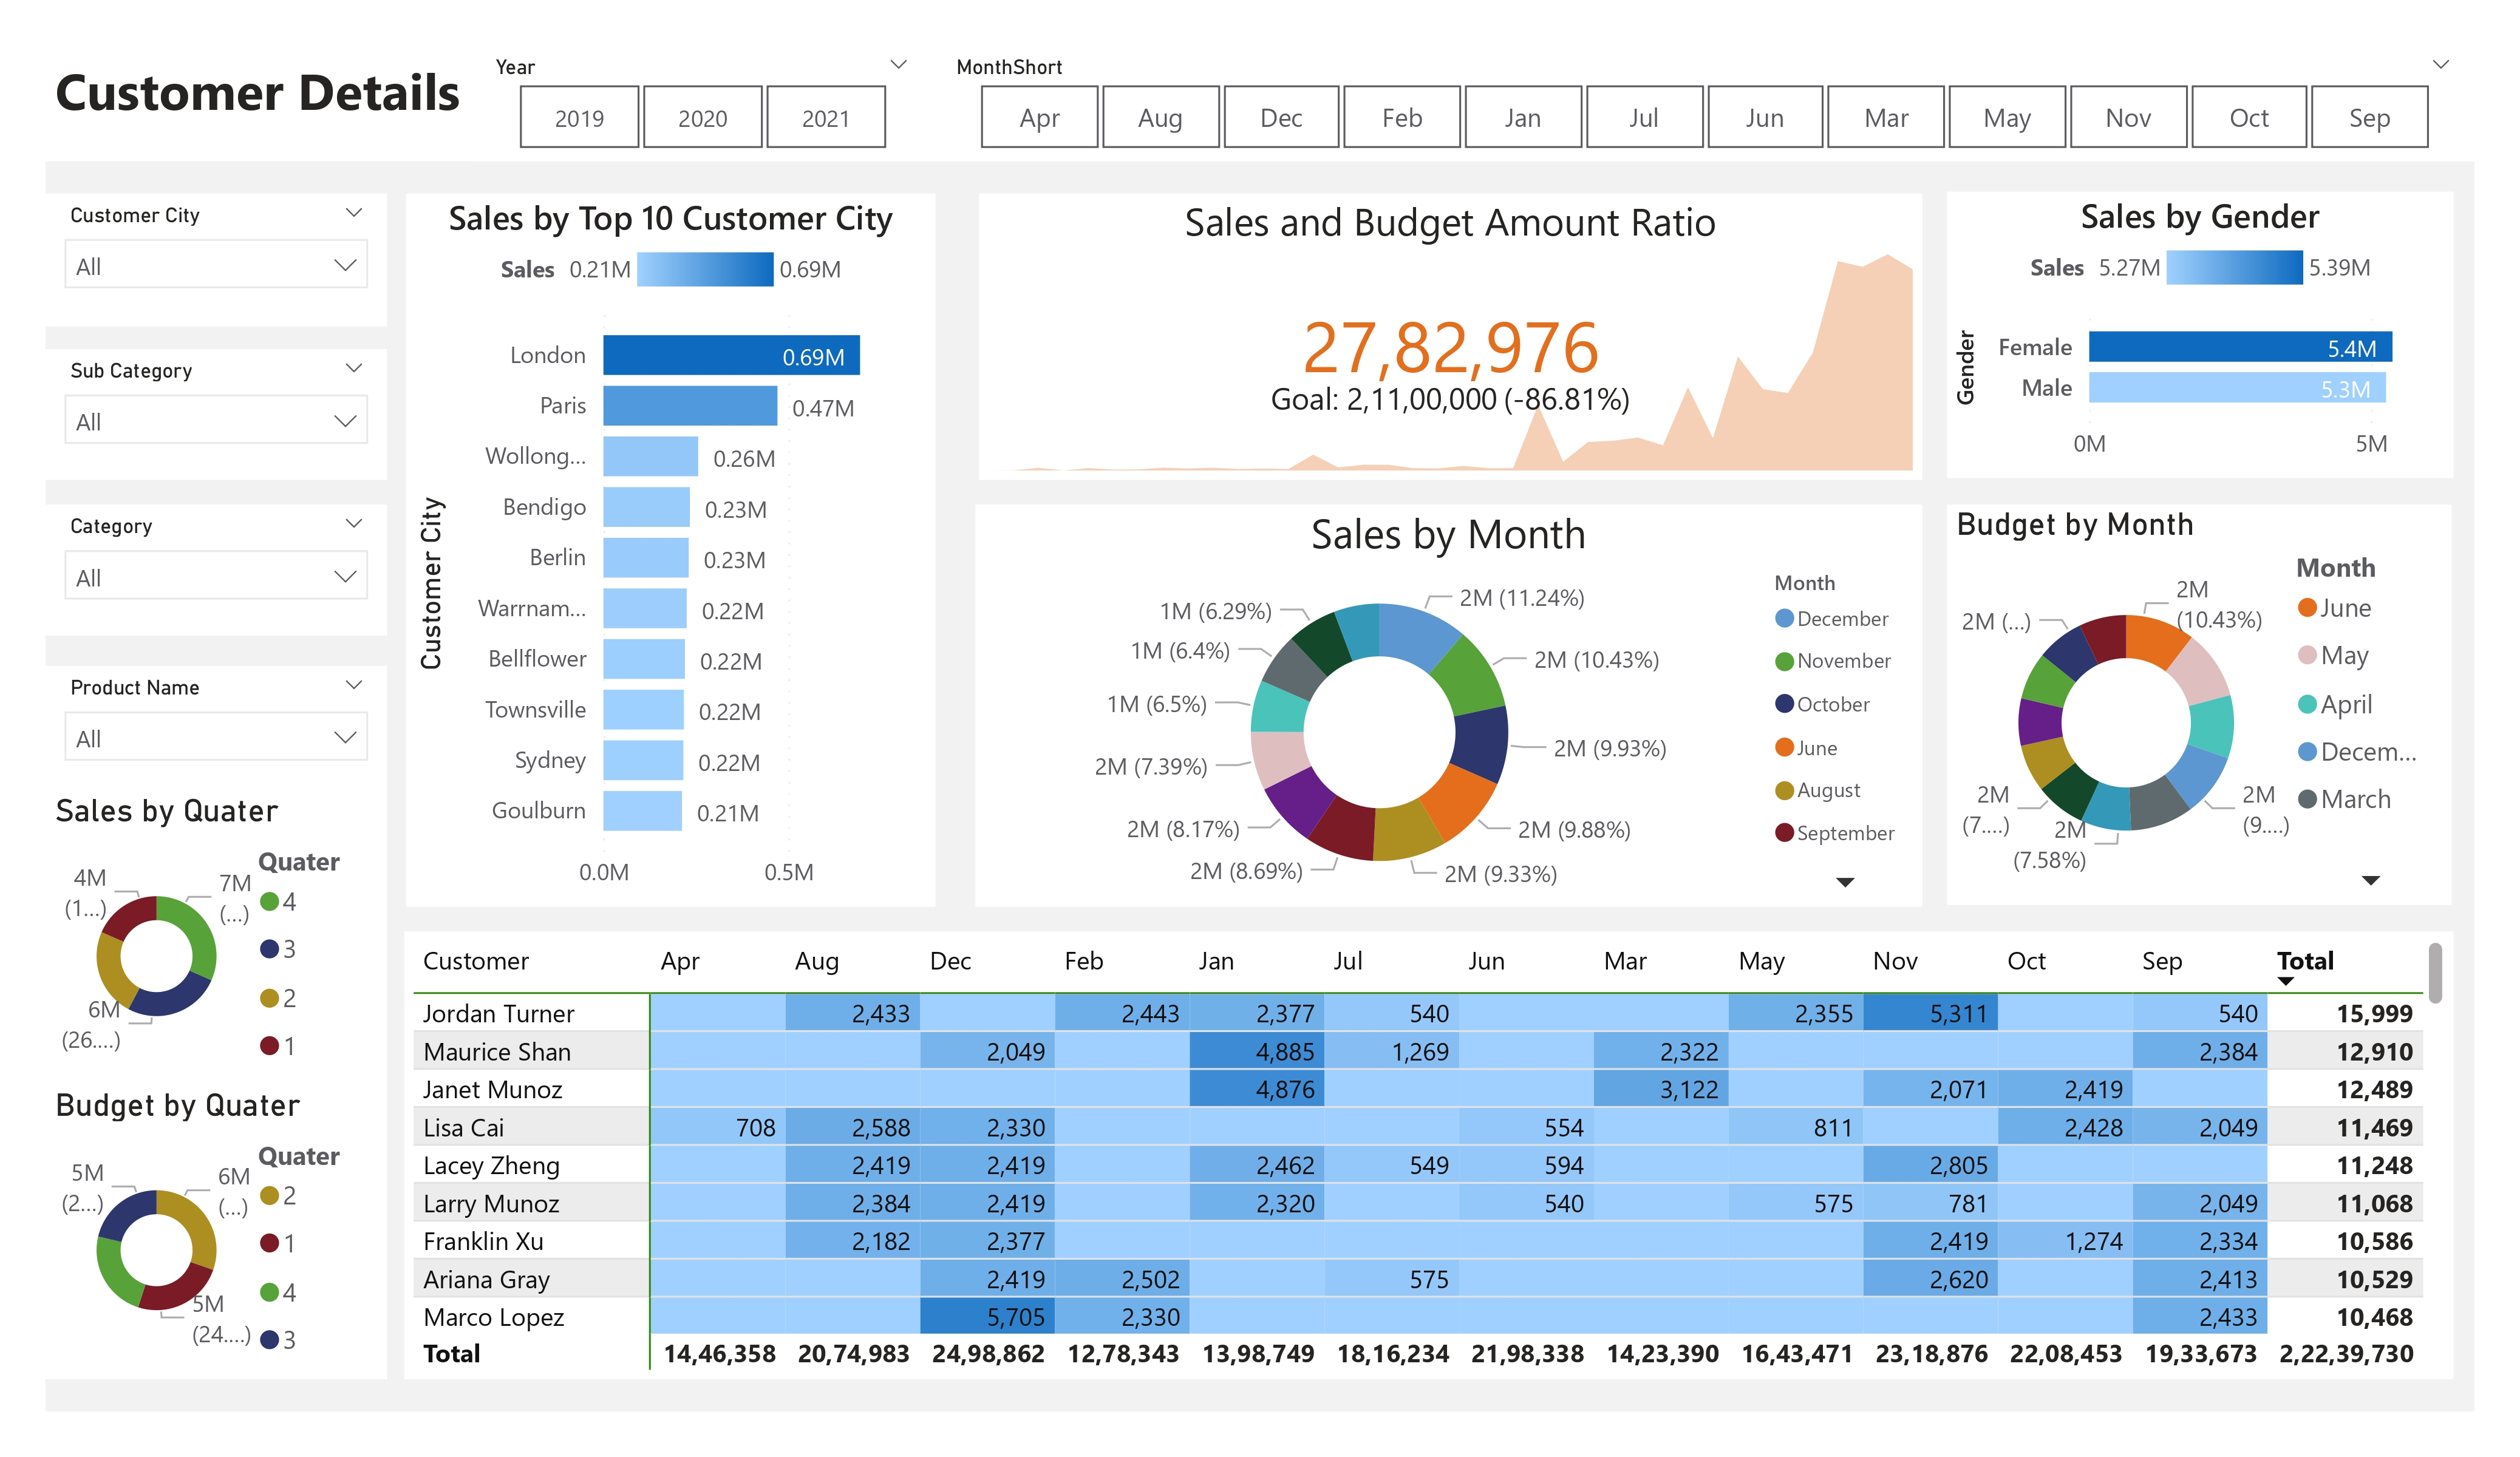

The dashboard page shown, as its layout file describes it:
{"tool":"powerbi","page":{"name":"Customer Details","canvas":[1280,720],"ordinal":1},"visuals":[{"type":"textbox","box":[0,0,1280,61.1],"z":0},{"type":"slicer","fields":{"Values":["DIM_Customer.Customer City"]},"box":[0,77.8,179.6,70.6],"z":1000},{"type":"slicer","fields":{"Values":["DIM_Products.Sub Category"]},"box":[0,160.4,179.6,68.3],"z":2000},{"type":"slicer","fields":{"Values":["DIM_Products.Product Category"]},"box":[0,241.9,179.6,69.4],"z":3000},{"type":"slicer","fields":{"Values":["DIM_Products.Product Name"]},"box":[0,326.9,179.6,65.9],"z":4000},{"type":"slicer","fields":{"Values":["Dim_Date_Excel.Year"]},"box":[223.9,0,243.1,61.1],"z":5000},{"type":"slicer","fields":{"Values":["Dim_Date_Excel.MonthShort"]},"box":[467,0,813,61.1],"z":6000},{"type":"kpi","title":"Sales and Budget Amount Ratio","fields":{"Indicator":["Key Measures.Sales"],"Goal":["Key Measures.Budget_Amount"],"TrendLine":["FactInternetSale.SalesAmount"]},"box":[492.5,77.8,496.8,151.2],"z":7000},{"type":"donutChart","fields":{"Y":["Key Measures.Sales"],"Category":["Dim_Date_Excel.Month"]},"box":[489.6,241.9,499.7,211.7],"z":8000},{"type":"barChart","title":"Sales by Top 10 Customer City","fields":{"Y":["Key Measures.Sales"],"Category":["DIM_Customer.Customer City"]},"box":[190.1,77.8,279.4,375.8],"z":9000},{"type":"barChart","title":"Sales by Gender","fields":{"Y":["Key Measures.Sales"],"Category":["DIM_Customer.Gender"]},"box":[1002.5,77.3,267,151.1],"z":10000},{"type":"pivotTable","fields":{"Rows":["DIM_Customer.Full Name"],"Values":["Key Measures.Sales"],"Columns":["Dim_Date_Excel.MonthShort"]},"box":[189.5,466.5,1079.9,236.8],"z":11000},{"type":"donutChart","fields":{"Category":["Dim_Date_Excel.Month"],"Y":["Fact_Budget.Budget"]},"box":[1001.7,241.7,266.7,211.7],"z":12000},{"type":"donutChart","fields":{"Y":["Fact_Budget.Budget"],"Category":["Dim_Date_Excel.Quater"]},"box":[0,548.3,180,155],"z":13000},{"type":"donutChart","fields":{"Category":["Dim_Date_Excel.Quater"],"Y":["Key Measures.Sales"]},"box":[0,393.3,180,155],"z":14000}]}

Visuals, with their boxes on the page's 1280x720 design canvas (x1, y1, x2, y2). These are canvas units, not pixel positions in the 2520x1457 screenshot, which may show the page scaled, cropped or inside an application window:
textbox: [left=0, top=0, right=1280, bottom=61]
slicer - DIM_Customer.Customer City: [left=0, top=78, right=180, bottom=148]
slicer - DIM_Products.Sub Category: [left=0, top=160, right=180, bottom=229]
slicer - DIM_Products.Product Category: [left=0, top=242, right=180, bottom=311]
slicer - DIM_Products.Product Name: [left=0, top=327, right=180, bottom=393]
slicer - Dim_Date_Excel.Year: [left=224, top=0, right=467, bottom=61]
slicer - Dim_Date_Excel.MonthShort: [left=467, top=0, right=1280, bottom=61]
"Sales and Budget Amount Ratio" kpi: [left=492, top=78, right=989, bottom=229]
donutChart - Key Measures.Sales x Dim_Date_Excel.Month: [left=490, top=242, right=989, bottom=454]
"Sales by Top 10 Customer City" barChart: [left=190, top=78, right=470, bottom=454]
"Sales by Gender" barChart: [left=1002, top=77, right=1270, bottom=228]
pivotTable - DIM_Customer.Full Name x Key Measures.Sales: [left=190, top=466, right=1269, bottom=703]
donutChart - Dim_Date_Excel.Month x Fact_Budget.Budget: [left=1002, top=242, right=1268, bottom=453]
donutChart - Fact_Budget.Budget x Dim_Date_Excel.Quater: [left=0, top=548, right=180, bottom=703]
donutChart - Dim_Date_Excel.Quater x Key Measures.Sales: [left=0, top=393, right=180, bottom=548]
